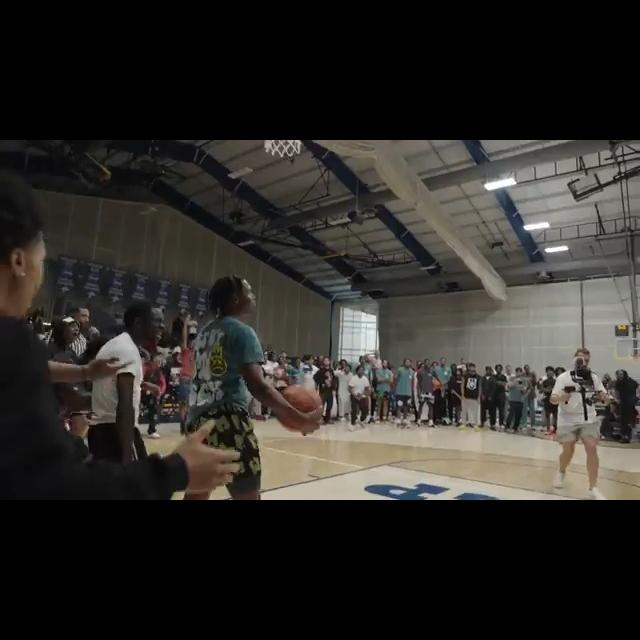basketball: (274, 386, 324, 430)
hoop: (261, 140, 306, 159)
